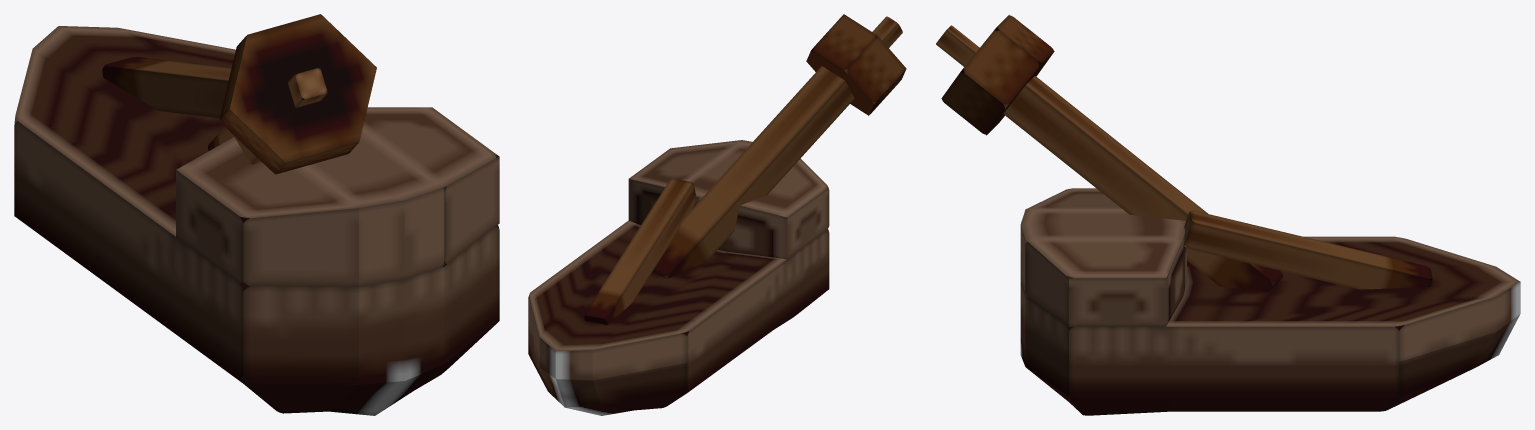
File: BoatSHIT.fbx
3 renders of one model, left to right at view 1: azimuth 30°, elevation 25°; view 2: azimuth 150°, elevation 25°; view 3: azimuth 270°, elevation 25°, orthographic. The views are drawn at different scales.
Visible parts, largest first — view 1: cuboid, cylinder, cuboid_2, cuboid_3, cuboid_1; view 2: cuboid, cuboid_1, cuboid_2, cylinder, cuboid_3; view 3: cuboid, cuboid_1, cuboid_2, cylinder, cuboid_3.
Boxes of the visible parts, bbox=[...] form: cuboid: bbox=[14, 26, 499, 415]; cylinder: bbox=[219, 14, 376, 174]; cuboid_2: bbox=[102, 57, 231, 118]; cuboid_3: bbox=[287, 67, 327, 107]; cuboid_1: bbox=[208, 127, 261, 164]; cuboid: bbox=[528, 140, 829, 415]; cuboid_1: bbox=[652, 66, 854, 278]; cuboid_2: bbox=[584, 179, 695, 324]; cylinder: bbox=[806, 14, 906, 115]; cuboid_3: bbox=[872, 16, 902, 47]; cuboid: bbox=[1020, 188, 1520, 415]; cuboid_1: bbox=[1003, 76, 1283, 291]; cuboid_2: bbox=[1183, 210, 1432, 289]; cylinder: bbox=[941, 14, 1054, 135]; cuboid_3: bbox=[936, 25, 979, 66].
Bounding box in the file's own units: 87.29 × 118 × 188.
1 material, 1 textured.
